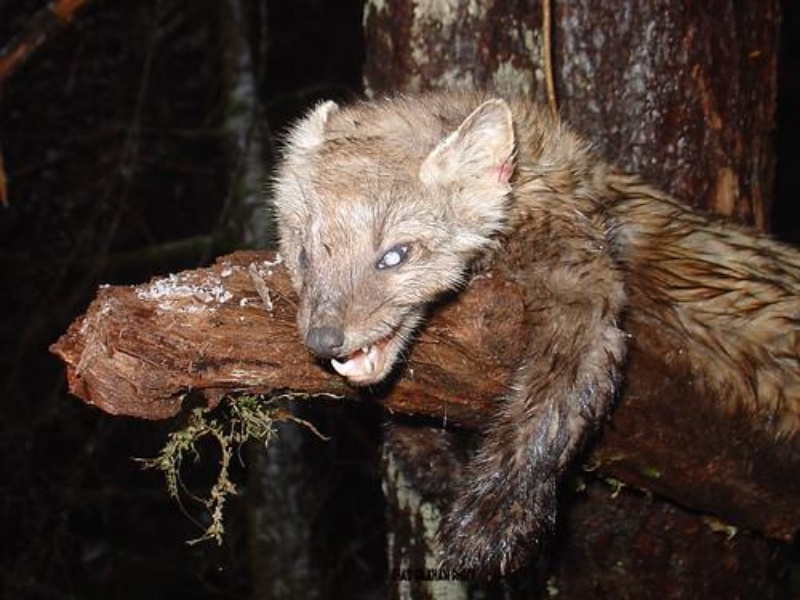minkish: (269, 82, 800, 580)
